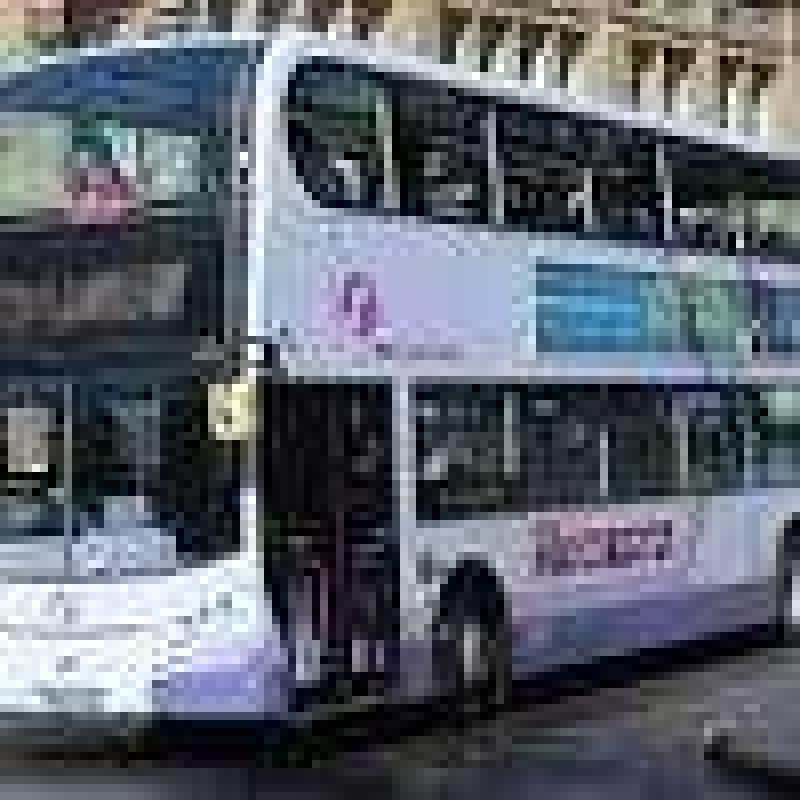bus: (16, 40, 800, 728)
